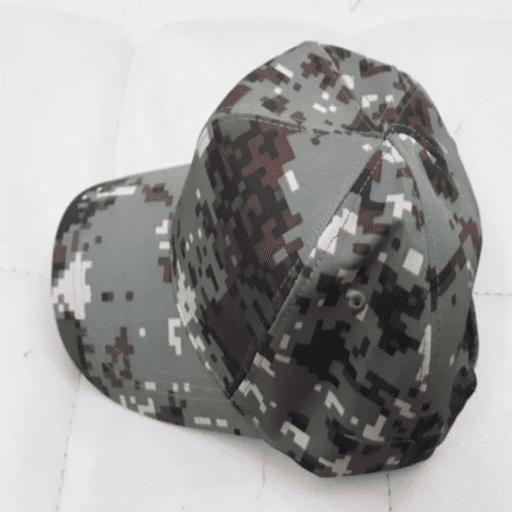korea army: (50, 38, 483, 478)
